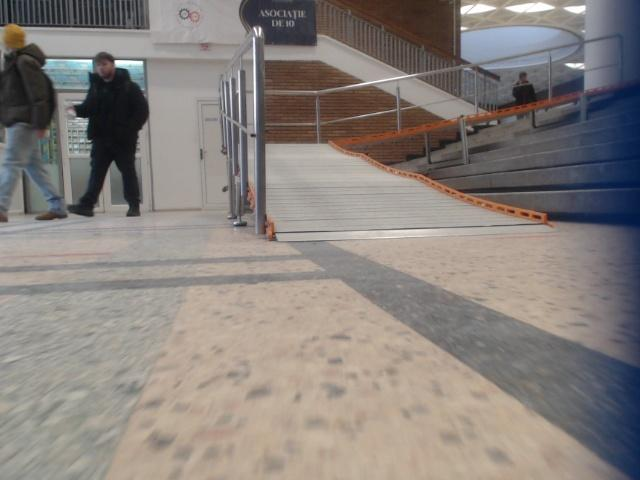rampUp: (266, 144, 551, 241)
ramps-railing: (267, 41, 584, 141), (219, 26, 266, 233)
